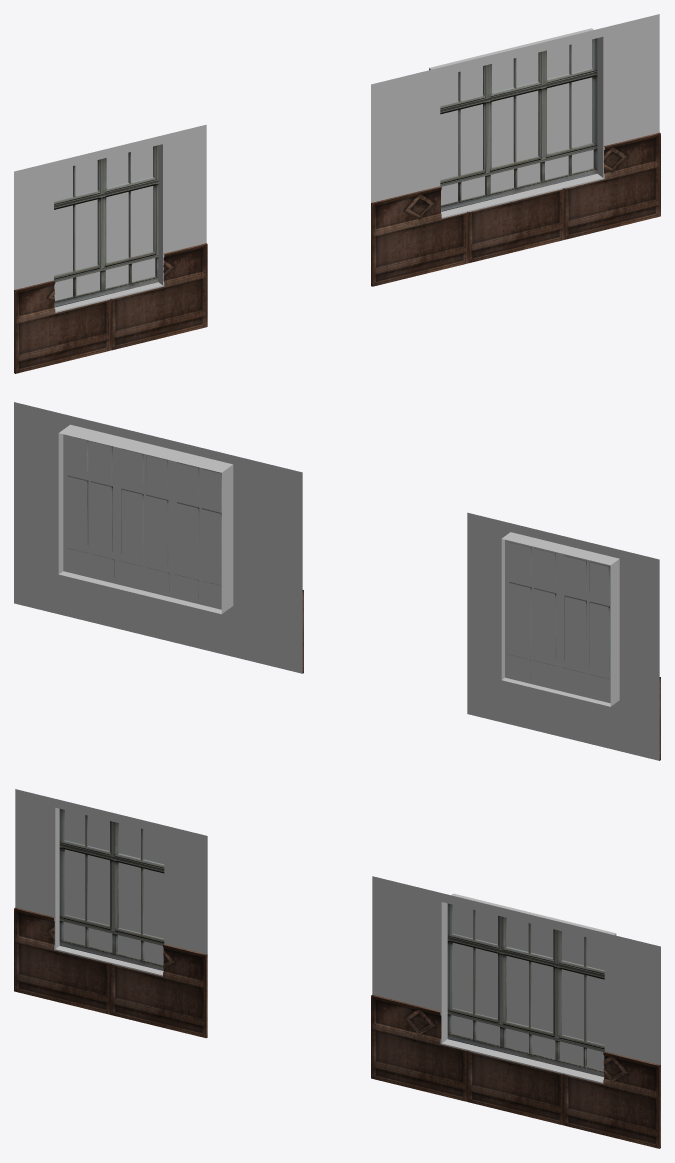
File: hospital_walls_windows.fbx
3 views of the same model, one above another, from view 1: azimuth 30°, elevation 25°; view 2: azimuth 150°, elevation 25°; view 3: azimuth 330°, elevation 25° (orthographic).
Parts seen in each view (by area): view 1: wall_01_l_wind, wall_01_m_wind; view 2: wall_01_l_wind, wall_01_m_wind; view 3: wall_01_l_wind, wall_01_m_wind.
Boxes of the visible parts, box(x1,y1,x2,y2) form: wall_01_l_wind: box(371, 14, 660, 286); wall_01_m_wind: box(14, 124, 207, 373); wall_01_l_wind: box(14, 402, 303, 673); wall_01_m_wind: box(467, 512, 660, 760); wall_01_l_wind: box(371, 876, 660, 1148); wall_01_m_wind: box(14, 789, 207, 1038).
Size of the model in its own units: 335 by 100 by 11.56.
